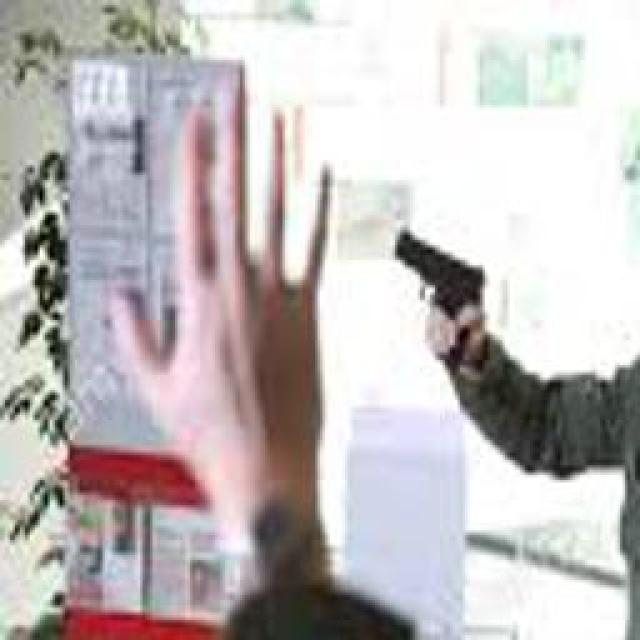Guns: (372, 224, 521, 359)
